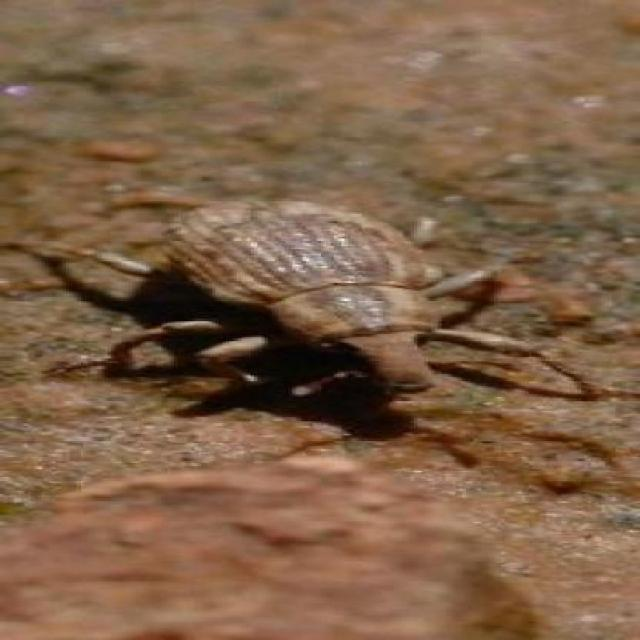rice-bug: (108, 202, 529, 410)
